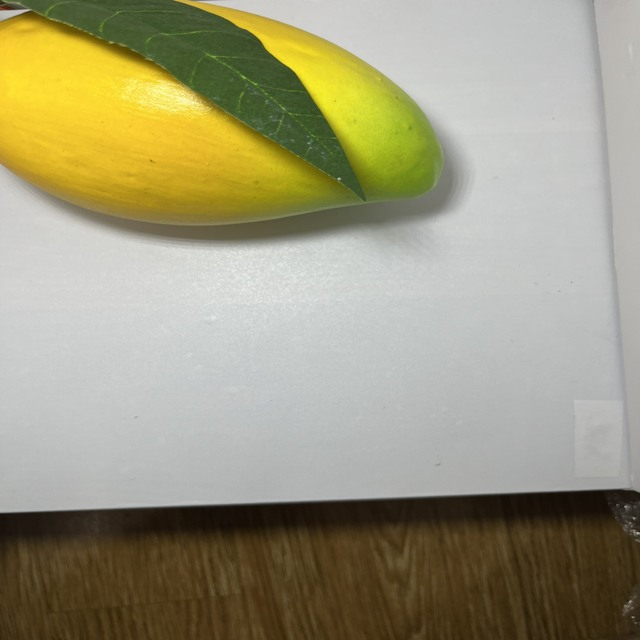Xoai: (0, 0, 453, 232)
